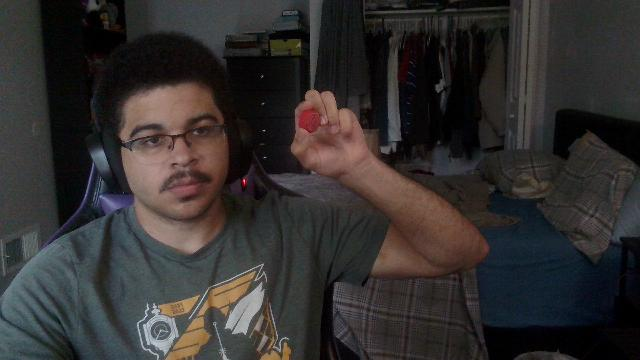cap: (298, 108, 320, 132)
